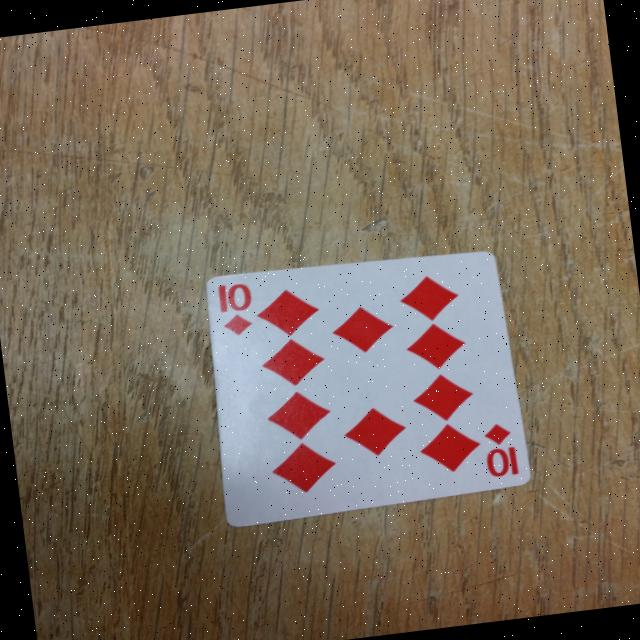10d: (468, 414, 532, 488), (208, 275, 262, 341)
